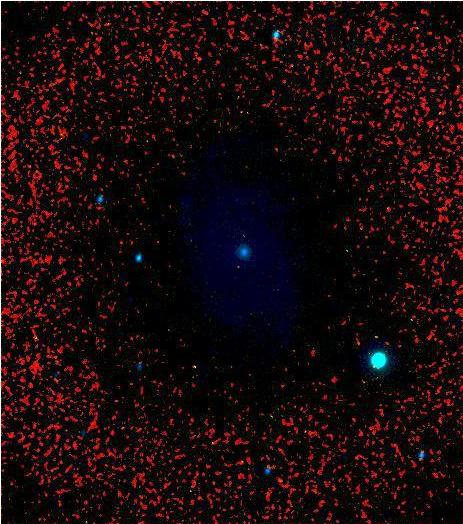star: (219, 254, 249, 284)
